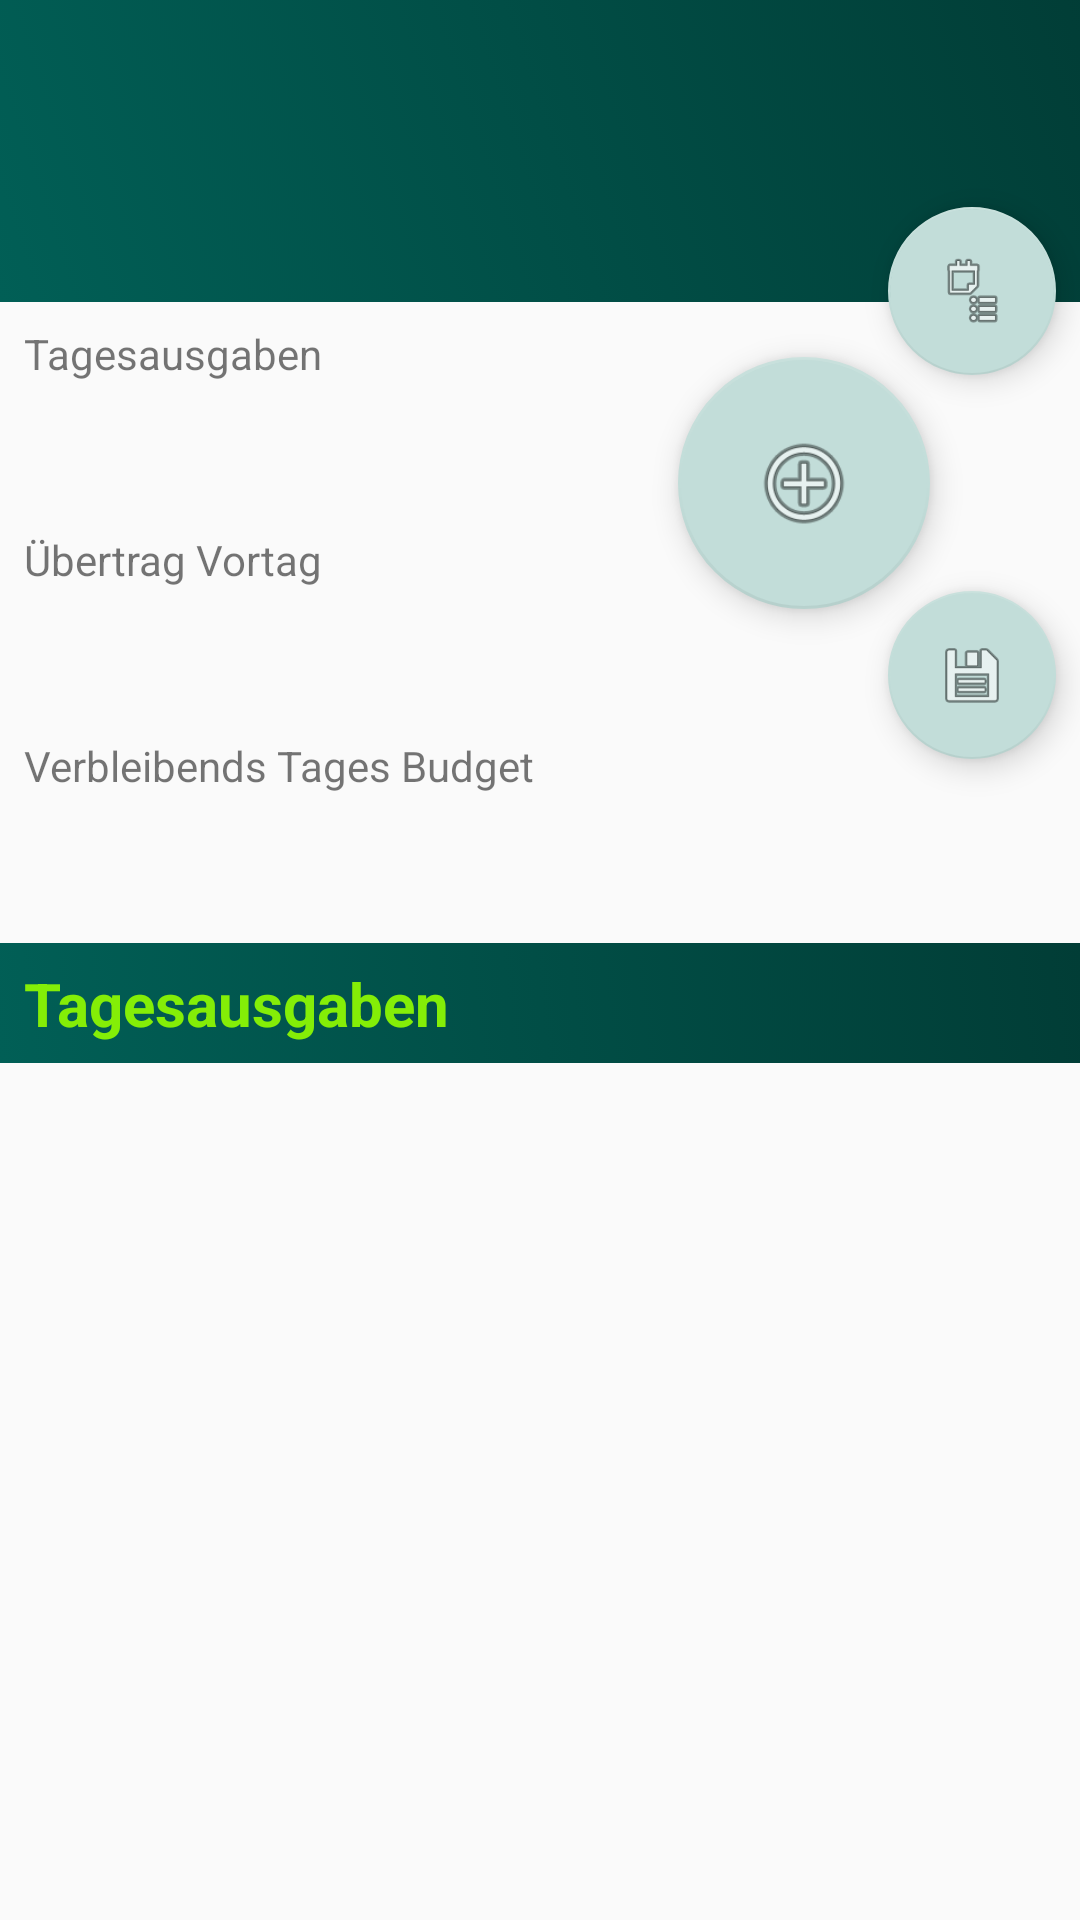

Named icons in this screenshot (1080 × 1920) and their centers, (x=x, y=y):
agenda: (x=972, y=291)
save: (x=972, y=675)
